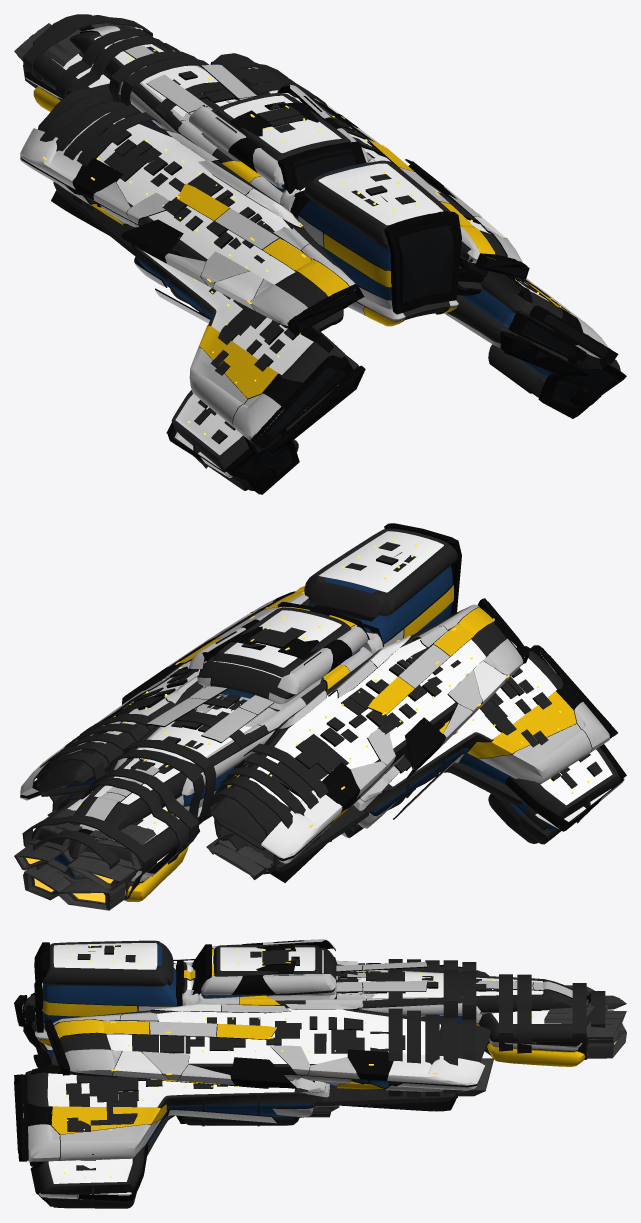
The picture shows the model from 3 angles, top to bottom: view 1: azimuth 30°, elevation 25°; view 2: azimuth 150°, elevation 25°; view 3: azimuth 270°, elevation 25°; orthographic projection. The views are drawn at different scales.
Parts seen in each view (by area): view 1: mat, base, panel, detail, color2, glass; view 2: mat, base, detail, color2, panel, glass, emit; view 3: mat, base, color2, detail, panel, glass.
Part boxes in pixels (left/top/right/bottom): mat: left=22, top=14, right=620, bottom=490; base: left=14, top=22, right=608, bottom=443; panel: left=20, top=30, right=626, bottom=494; detail: left=52, top=36, right=549, bottom=455; color2: left=20, top=25, right=582, bottom=477; glass: left=30, top=78, right=616, bottom=486; mat: left=21, top=528, right=620, bottom=898; base: left=14, top=592, right=609, bottom=910; detail: left=67, top=531, right=612, bottom=862; color2: left=20, top=585, right=623, bottom=901; panel: left=14, top=523, right=626, bottom=904; glass: left=22, top=563, right=622, bottom=878; emit: left=26, top=538, right=589, bottom=902; mat: left=23, top=940, right=605, bottom=1208; base: left=25, top=939, right=626, bottom=1161; color2: left=22, top=940, right=590, bottom=1201; detail: left=44, top=942, right=587, bottom=1183; panel: left=14, top=940, right=626, bottom=1206; glass: left=14, top=940, right=572, bottom=1166.
Bounding box in the file's own units: 2.75 × 1.59 × 4.52.
